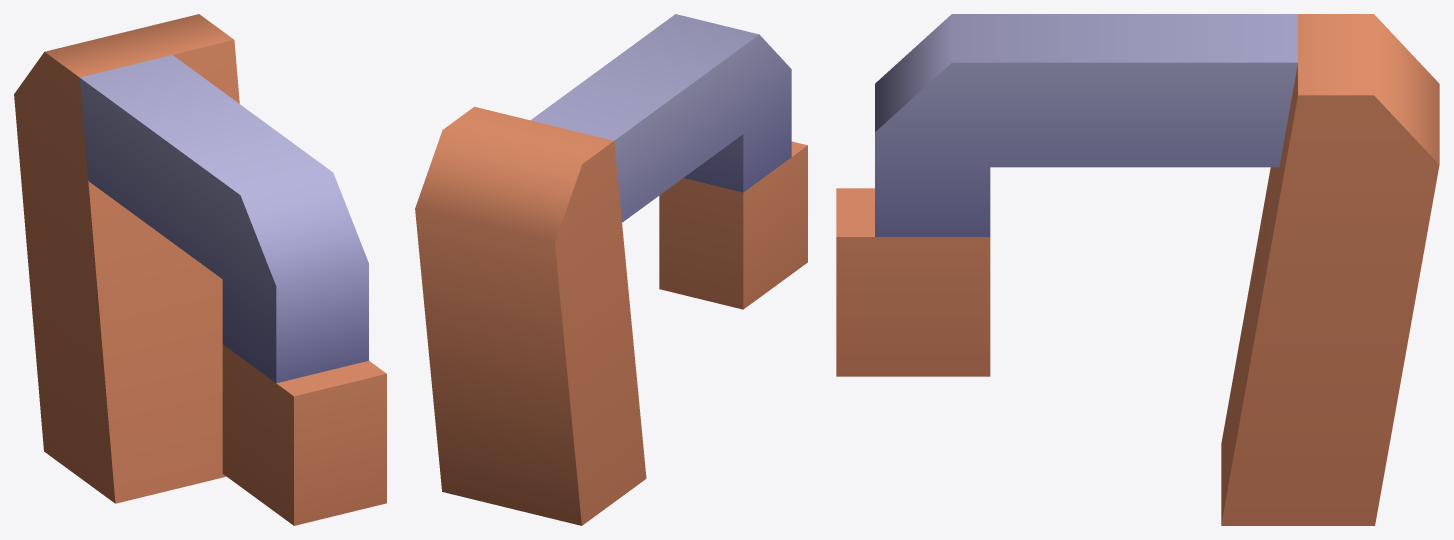
File: aid_hearing.obj
3 views of the same model, side by side, from view 1: azimuth 30°, elevation 25°; view 2: azimuth 150°, elevation 25°; view 3: azimuth 270°, elevation 25° (orthographic). The views are drawn at different scales.
Visible parts, largest first — view 1: aid_hearing; view 2: aid_hearing; view 3: aid_hearing.
Boxes of the visible parts, x1,y1,x2,y2 form: aid_hearing: (14, 14, 386, 525); aid_hearing: (415, 14, 807, 525); aid_hearing: (836, 14, 1439, 525).
Bounding box in the file's own units: 0.05 × 0.1235 × 0.1568.
Materials: 1 (1 with a texture image).
